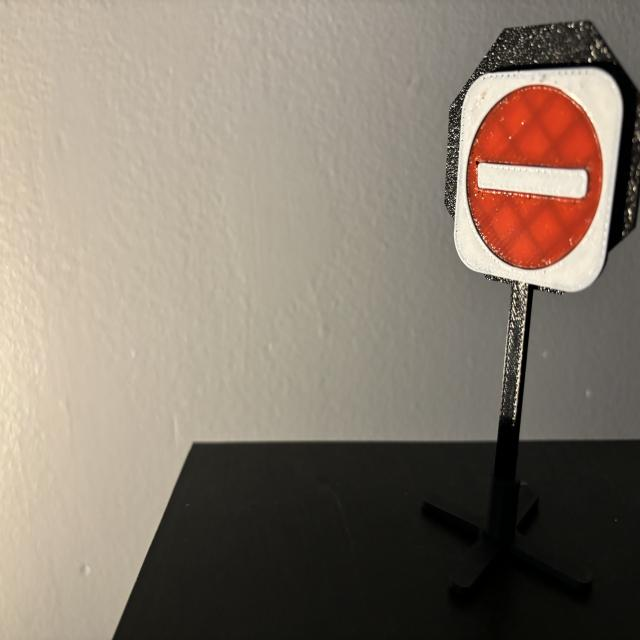sign_noentry: (456, 69, 624, 292)
